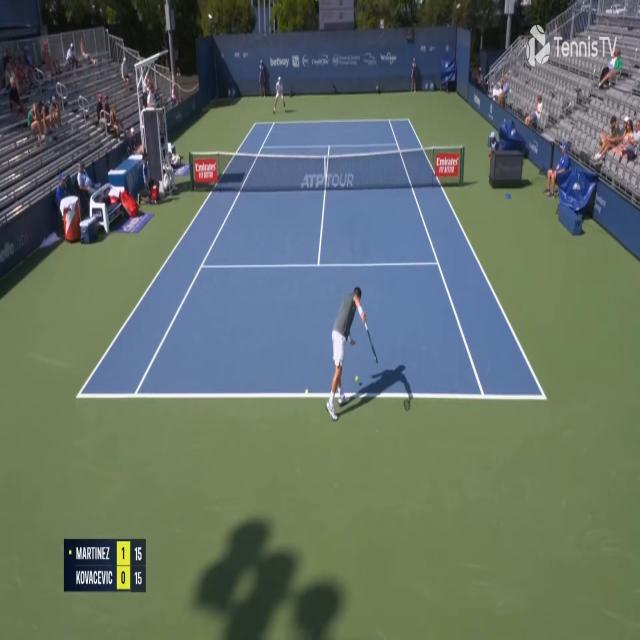tennis-player: (326, 282, 378, 423), (272, 76, 287, 115)
